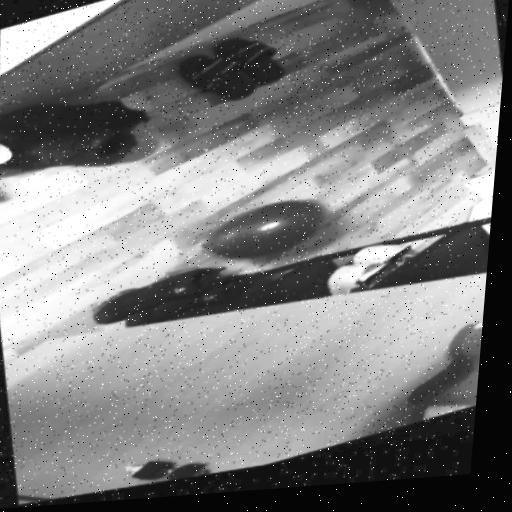balloon: (191, 189, 343, 278)
